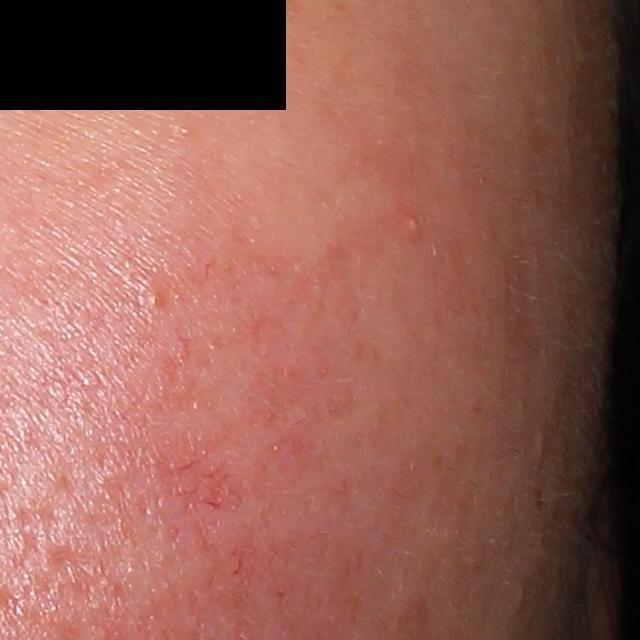comedo: (147, 291, 162, 309)
pustule: (401, 213, 427, 240)
